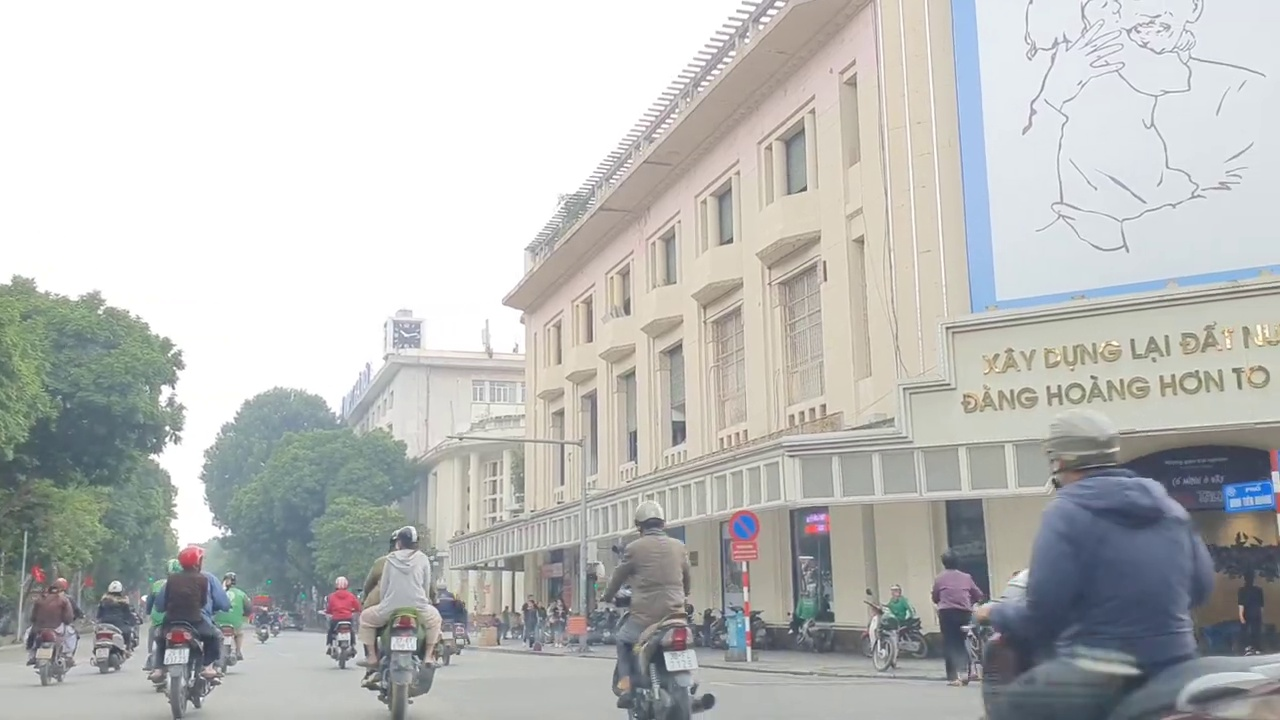person: (660, 651, 704, 671), (164, 646, 185, 665), (390, 636, 418, 650), (35, 645, 54, 659), (94, 645, 109, 659), (336, 629, 352, 641), (441, 629, 452, 639)
